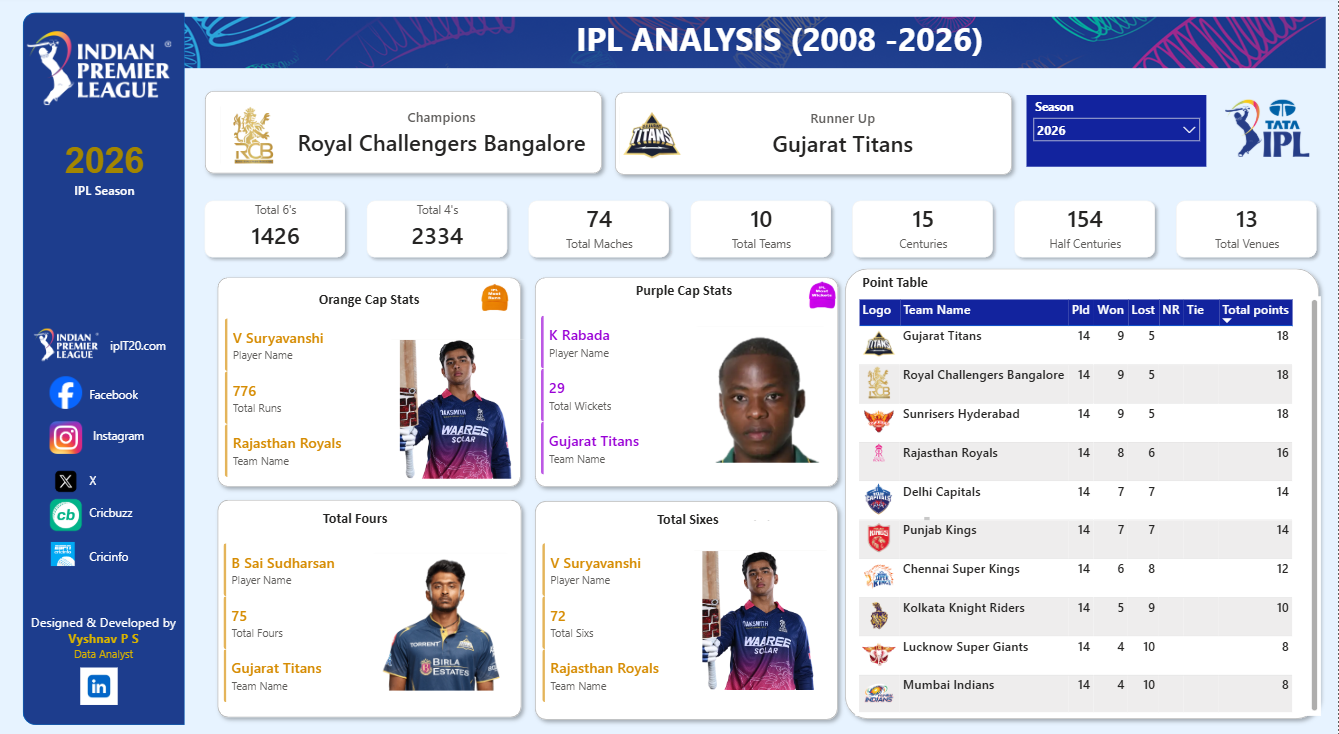

The dashboard page shown, as its layout file describes it:
{"tool":"powerbi","page":{"name":"Page 1","canvas":[2000,1100],"ordinal":0},"visuals":[{"type":"group","id":"g1","title":"Group 3","box":[316.1,403.3,474.2,336.1],"z":0},{"type":"shape","box":[1253.3,390,730,695],"z":1000},{"type":"image","box":[259.8,18.2,1723,90],"z":2000},{"type":"textbox","box":[686.8,18.2,959.3,90.8],"z":3000},{"type":"slicer","fields":{"Values":["ipl_matches_data_new.season"]},"box":[1535.3,141.7,268.9,107.2],"z":4000},{"type":"shape","box":[36.3,18.2,242,1065],"z":5000},{"type":"shape","box":[296.1,125.4,615,145],"z":5000,"group":"g3"},{"type":"cardVisual","fields":{"Data":["ipl_matches_data_new.Season Winner"]},"box":[412.4,139.9,497.8,114.5],"z":6000,"group":"g3"},{"type":"cardVisual","fields":{"Data":["ipl_matches_data_new.Total 6's","ipl_matches_data_new.Total 4's","ball_by_ball_data_new.Total Maches","ball_by_ball_data_new.Total Teams","ball_by_ball_data_new.Centuries","ball_by_ball_data_new.Half Centuries","ball_by_ball_data_new.Total Venues"]},"box":[278,270.7,1722.4,143.5],"z":6000},{"type":"cardVisual","fields":{"Data":["ipl_matches_data_new.Season Winner Logo"]},"box":[312.5,139.9,131,154],"z":7000,"group":"g3"},{"type":"textbox","box":[1285,403.3,250,40],"z":7000},{"type":"shape","box":[910.2,127.2,615,145],"z":8000,"group":"g2"},{"type":"cardVisual","fields":{"Data":["ball_by_ball_data_new.Orange Cap Image"]},"box":[567.9,489.5,236.7,243.3],"z":8000},{"type":"cardVisual","fields":{"Data":["ipl_matches_data_new.Runner Up"]},"box":[1013.8,141.7,497.8,114.5],"z":9000,"group":"g2"},{"type":"shape","box":[791.2,403.1,475,335],"z":9000},{"type":"cardVisual","fields":{"Data":["ipl_matches_data_new.Runner Up Team Logo"]},"box":[910.2,139.9,131,154],"z":10000,"group":"g2"},{"type":"cardVisual","fields":{"Data":["ball_by_ball_data_new.Purple Cap Holder","ball_by_ball_data_new.Purple Cap Wicket count","ball_by_ball_data_new.Purple Cap Team"]},"box":[805,467.5,326.2,247.5],"z":10000},{"type":"cardVisual","fields":{"Data":["ball_by_ball_data_new.Purple Cap image"]},"box":[1023.3,471.7,228.3,246.7],"z":11000},{"type":"shape","box":[316.1,403.3,475,335],"z":12000,"group":"g1"},{"type":"image","box":[1208.8,415,43.6,52.7],"z":12000},{"type":"textbox","box":[887.5,417.5,272.5,52.7],"z":13000},{"type":"cardVisual","fields":{"Data":["ball_by_ball_data_new.Orange Cap Holder","ball_by_ball_data_new.Orange Cap Runs","ball_by_ball_data_new.Orange Cap Team Name"]},"box":[332.2,471.2,326.2,247.5],"z":13000,"group":"g1"},{"type":"shape","box":[316.1,735.8,476,347],"z":14000},{"type":"cardVisual","fields":{"Data":["ball_by_ball_data_new.Top Fours Player Name","ball_by_ball_data_new.Top Fours count","ball_by_ball_data_new.Top Fours Player Team Name"]},"box":[330,806.7,326.2,247.5],"z":15000},{"type":"image","box":[719.5,417.6,43.6,52.7],"z":16000,"group":"g1"},{"type":"cardVisual","fields":{"Data":["ball_by_ball_data_new.Orange Cap Image"]},"box":[541.8,808.9,236.7,243.3],"z":16000},{"type":"textbox","box":[396.7,756.7,272.5,52.7],"z":17000},{"type":"shape","box":[790.3,737.6,474.2,348.8],"z":18000},{"type":"cardVisual","fields":{"Data":["ball_by_ball_data_new.Top Six Player Name","ball_by_ball_data_new.Top Six count","ball_by_ball_data_new.Top Six Player Team Name"]},"box":[806.7,806.7,326.2,247.5],"z":19000},{"type":"cardVisual","fields":{"Data":["ball_by_ball_data_new.Orange Cap Image"]},"box":[1020,805.2,236.7,243.3],"z":20000},{"type":"textbox","box":[872.1,757.6,314.3,52.7],"z":21000},{"type":"tableEx","fields":{"Values":["teams_data.image_url","teams_data.team_name","ball_by_ball_data_new.Match Played","ball_by_ball_data_new.Match won","ball_by_ball_data_new.Match Lost","ball_by_ball_data_new.No Result Played","ball_by_ball_data_new.Tie Played","ball_by_ball_data_new.Total points"]},"box":[1279.1,443.3,695.9,626.8],"z":22000},{"type":"textbox","box":[883,768.5,512.4,14.5],"z":23000},{"type":"image","box":[38.2,1.8,220,200],"z":24000},{"type":"image","box":[1833.2,134.4,125.4,114.5],"z":25000},{"type":"group","id":"g2","title":"Group 1","box":[910.2,127.2,614.1,167.2],"z":26000},{"type":"group","id":"g3","title":"Group 2","box":[296.1,125.4,614.1,169],"z":27000},{"type":"card","fields":{"Values":["ball_by_ball_data_new.Season Name"]},"box":[60,178.1,196.2,141.7],"z":28000},{"type":"image","box":[69,563.2,61.8,49.1],"z":29000},{"type":"actionButton","box":[149,494.2,116.3,41.8],"z":30000},{"type":"image","box":[50.9,472.4,98.1,85.4],"z":31000},{"type":"textbox","box":[408.5,429.8,291.7,46.7],"z":32000,"group":"g1"},{"type":"actionButton","box":[130.8,566.9,129,45.4],"z":32000},{"type":"image","box":[69,630.5,61.8,49.1],"z":33000},{"type":"image","box":[69,694,61.8,49.1],"z":34000},{"type":"image","box":[69,744.9,61.8,49.1],"z":35000},{"type":"image","box":[60.3,805.9,70.9,45.4],"z":36000},{"type":"actionButton","box":[136.3,630.5,119.9,41.8],"z":37000},{"type":"actionButton","box":[130.8,697.7,116.3,41.8],"z":38000},{"type":"actionButton","box":[130.8,744.9,116.3,41.8],"z":39000},{"type":"actionButton","box":[130.8,810.3,116.3,41.8],"z":40000},{"type":"textbox","box":[36.3,912.1,241.6,109],"z":41000},{"type":"image","box":[110.8,997.5,78.1,56.3],"z":42000}]}

Visuals, with their boxes in screenshot pixels (x1, y1, x2, y2), scaled from the page's 2000x1100 canvas onto the 1339x734 screenshot:
"Group 3" group: bbox(212, 269, 529, 493)
shape: bbox(839, 260, 1328, 724)
image: bbox(174, 12, 1327, 72)
textbox: bbox(460, 12, 1102, 73)
slicer - ipl_matches_data_new.season: bbox(1028, 95, 1208, 166)
shape: bbox(24, 12, 186, 723)
shape: bbox(198, 84, 610, 180)
cardVisual - ipl_matches_data_new.Season Winner: bbox(276, 93, 609, 170)
cardVisual - ipl_matches_data_new.Total 6's x ipl_matches_data_new.Total 4's: bbox(186, 181, 1338, 276)
cardVisual - ipl_matches_data_new.Season Winner Logo: bbox(209, 93, 297, 196)
textbox: bbox(860, 269, 1028, 296)
shape: bbox(609, 85, 1021, 182)
cardVisual - ball_by_ball_data_new.Orange Cap Image: bbox(380, 327, 539, 489)
cardVisual - ipl_matches_data_new.Runner Up: bbox(679, 95, 1012, 171)
shape: bbox(530, 269, 848, 493)
cardVisual - ipl_matches_data_new.Runner Up Team Logo: bbox(609, 93, 697, 196)
cardVisual - ball_by_ball_data_new.Purple Cap Holder x ball_by_ball_data_new.Purple Cap Wicket count: bbox(539, 312, 757, 477)
cardVisual - ball_by_ball_data_new.Purple Cap image: bbox(685, 315, 838, 479)
shape: bbox(212, 269, 530, 493)
image: bbox(809, 277, 838, 312)
textbox: bbox(594, 279, 777, 314)
cardVisual - ball_by_ball_data_new.Orange Cap Holder x ball_by_ball_data_new.Orange Cap Runs: bbox(222, 314, 441, 480)
shape: bbox(212, 491, 530, 723)
cardVisual - ball_by_ball_data_new.Top Fours Player Name x ball_by_ball_data_new.Top Fours count: bbox(221, 538, 439, 703)
image: bbox(482, 279, 511, 314)
cardVisual - ball_by_ball_data_new.Orange Cap Image: bbox(363, 540, 521, 702)
textbox: bbox(266, 505, 448, 540)
shape: bbox(529, 492, 847, 725)
cardVisual - ball_by_ball_data_new.Top Six Player Name x ball_by_ball_data_new.Top Six count: bbox(540, 538, 758, 703)
cardVisual - ball_by_ball_data_new.Orange Cap Image: bbox(683, 537, 841, 700)
textbox: bbox(584, 506, 794, 541)
tableEx - teams_data.image_url x teams_data.team_name: bbox(856, 296, 1322, 714)
textbox: bbox(591, 513, 934, 522)
image: bbox(26, 1, 173, 135)
image: bbox(1227, 90, 1311, 166)
"Group 1" group: bbox(609, 85, 1021, 196)
"Group 2" group: bbox(198, 84, 609, 196)
card - ball_by_ball_data_new.Season Name: bbox(40, 119, 172, 213)
image: bbox(46, 376, 88, 409)
actionButton: bbox(100, 330, 178, 358)
image: bbox(34, 315, 100, 372)
textbox: bbox(273, 287, 469, 318)
actionButton: bbox(88, 378, 174, 409)
image: bbox(46, 421, 88, 453)
image: bbox(46, 463, 88, 496)
image: bbox(46, 497, 88, 530)
image: bbox(40, 538, 88, 568)
actionButton: bbox(91, 421, 172, 449)
actionButton: bbox(88, 466, 165, 493)
actionButton: bbox(88, 497, 165, 525)
actionButton: bbox(88, 541, 165, 569)
textbox: bbox(24, 609, 186, 681)
image: bbox(74, 666, 126, 703)
